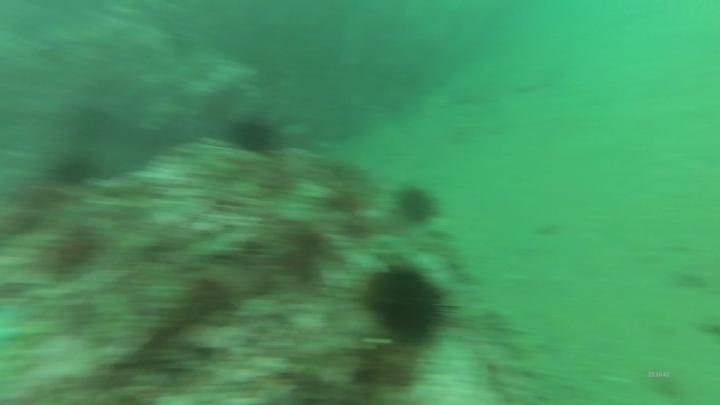echinus: (358, 259, 454, 350), (226, 114, 281, 158), (45, 150, 102, 191), (393, 182, 442, 228)
